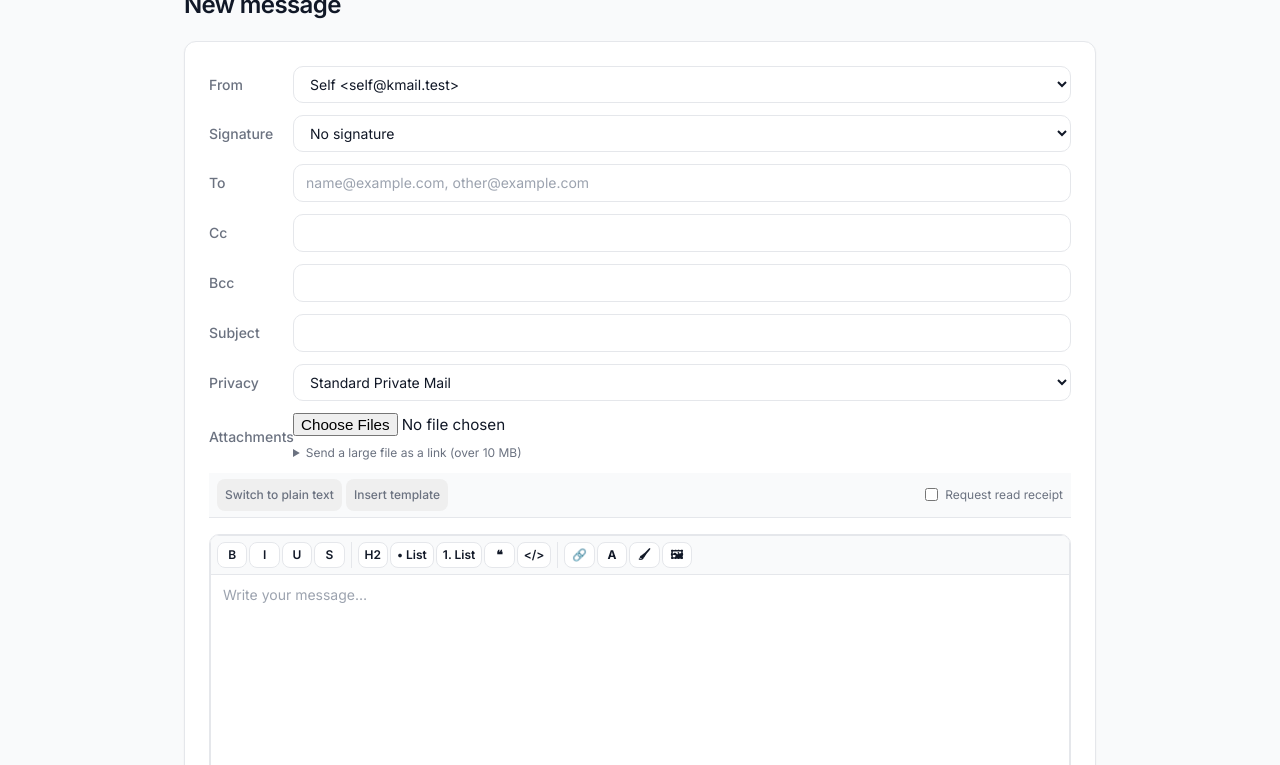
it: <Compose /> › sends the X-KMail-Schedule-At opt-in when the user picks 'Schedule for later'
Type "alice@example.com" into the dropdown labelled "To".
click(682, 183); type("alice@example.com")  # box [293,164,1071,202]
(page scrolled)
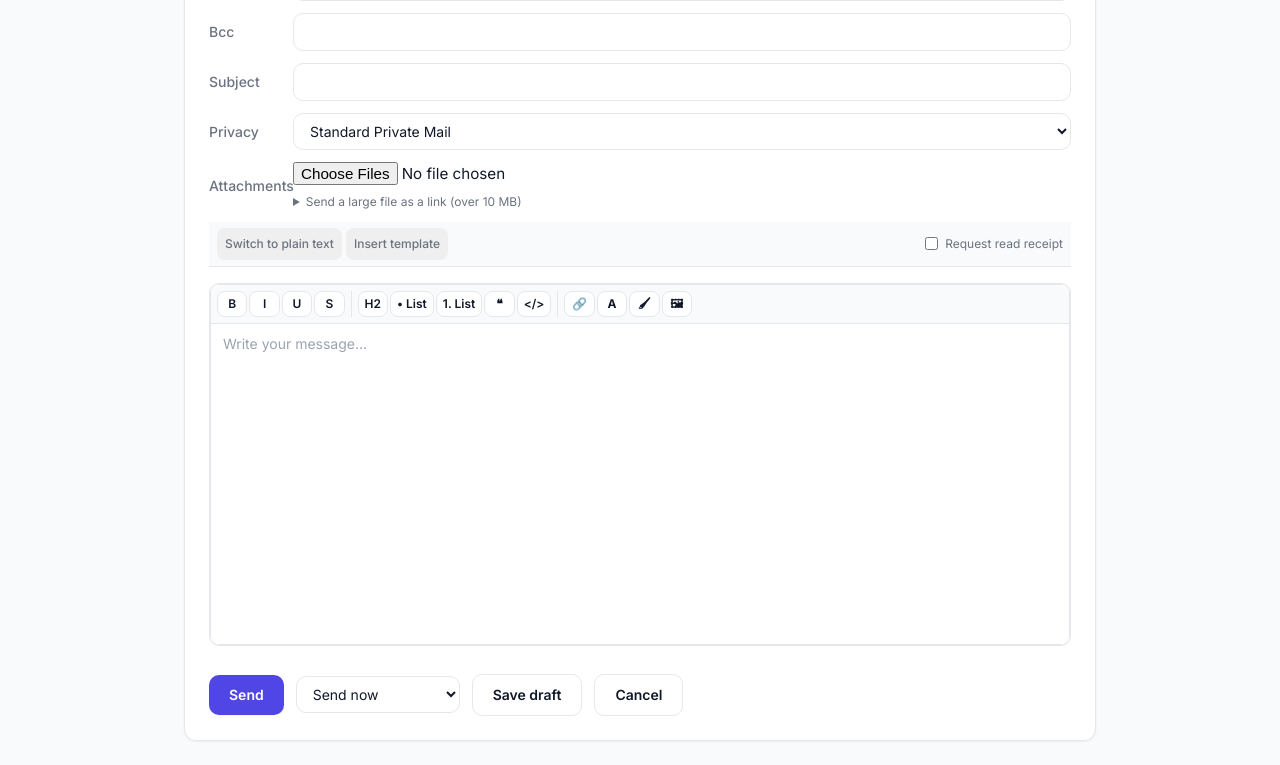
Select "Schedule for later" in the dropdown with test id "compose-send-mode" at (378,695), box [296,676,460,713]
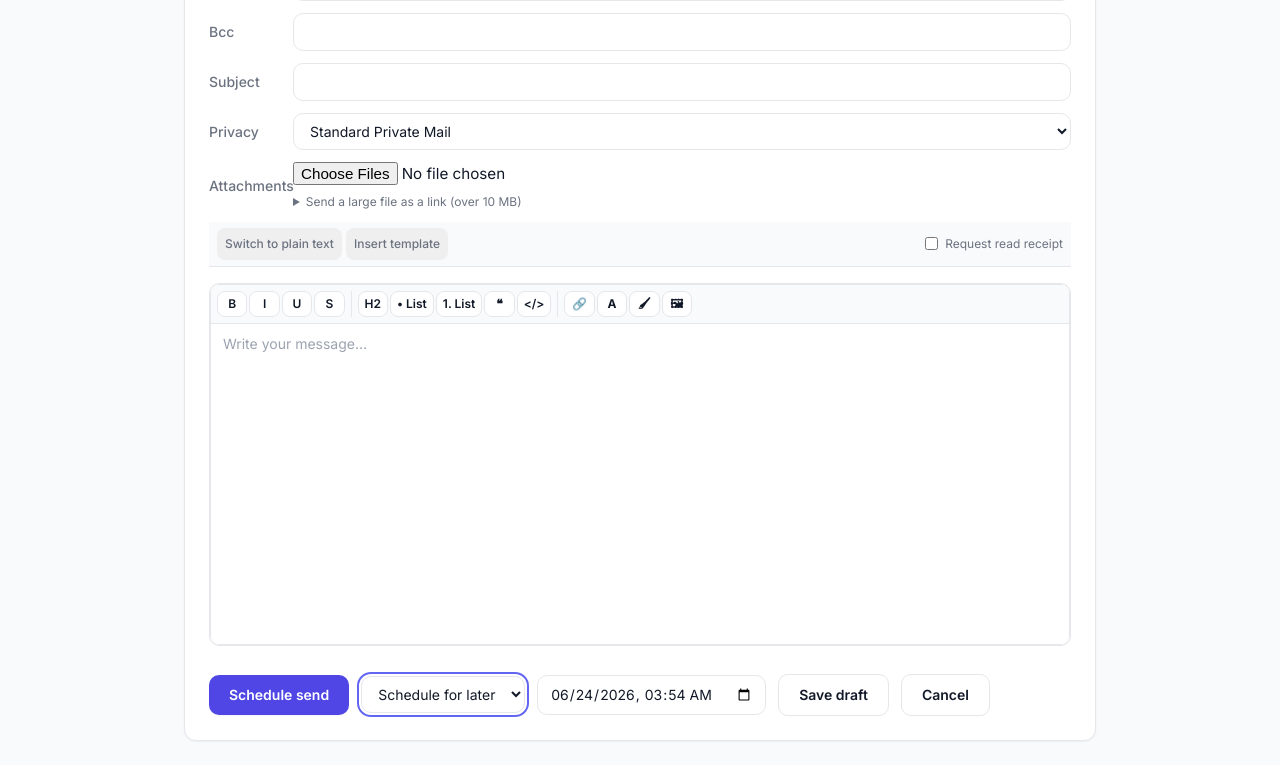
Click the button with test id "compose-send".
click(279, 695)  # box [209,675,349,715]
(page scrolled)
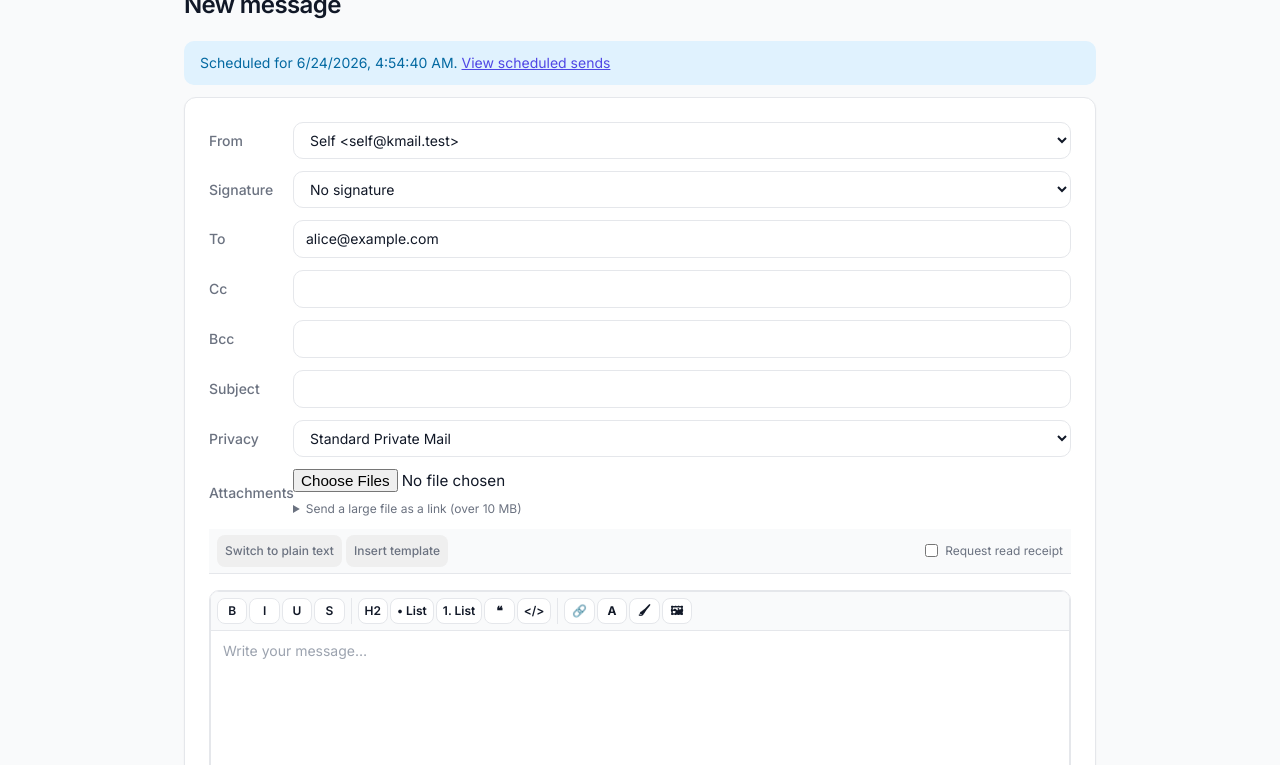
expect the message "Scheduled for 6/24/2026, 4:54:40 AM. View scheduled sends" is shown: met, box [184,41,1096,85]
expect the button "View scheduled sends" is shown: met, box [462,53,610,73]
